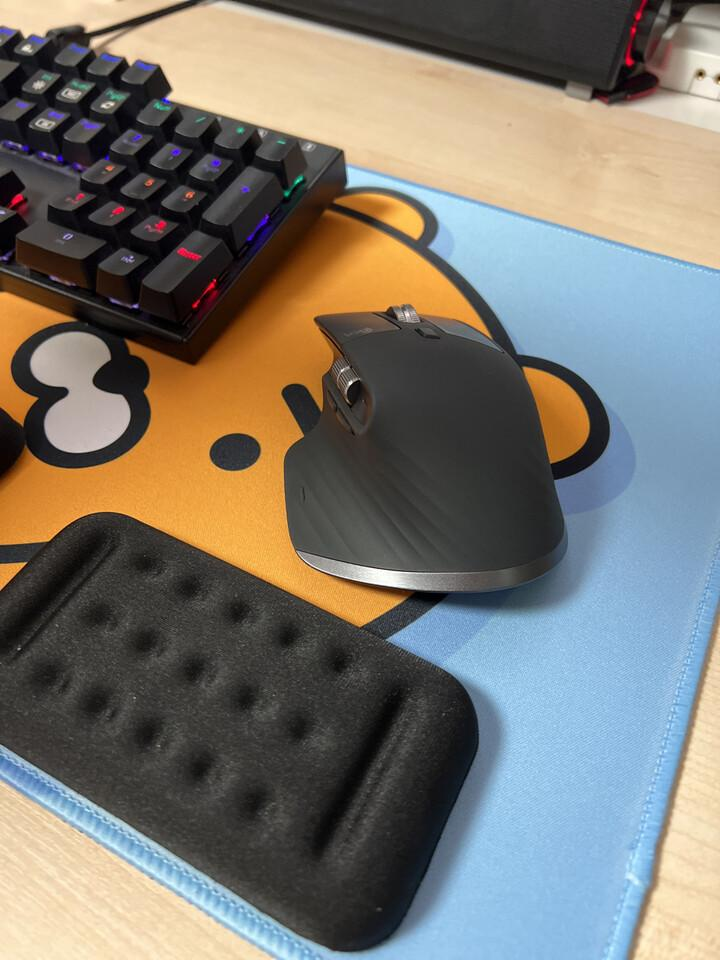keyboard: (0, 22, 347, 365)
mouse: (281, 302, 569, 594)
